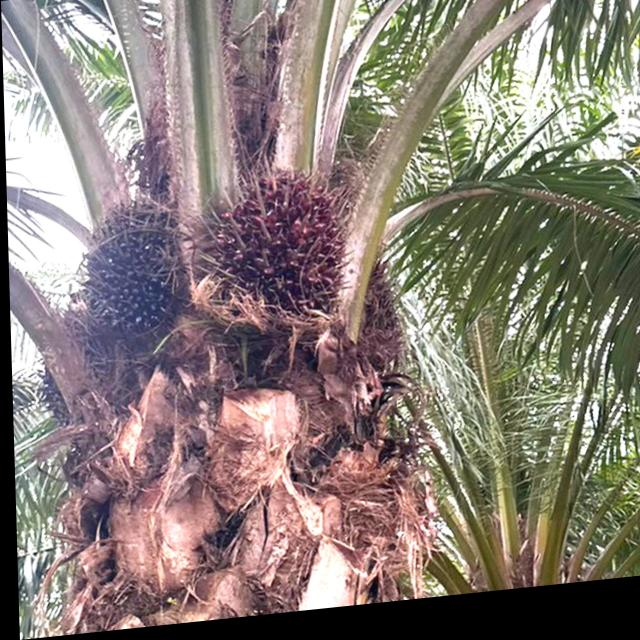ripe: (217, 158, 350, 317), (82, 196, 190, 344)
